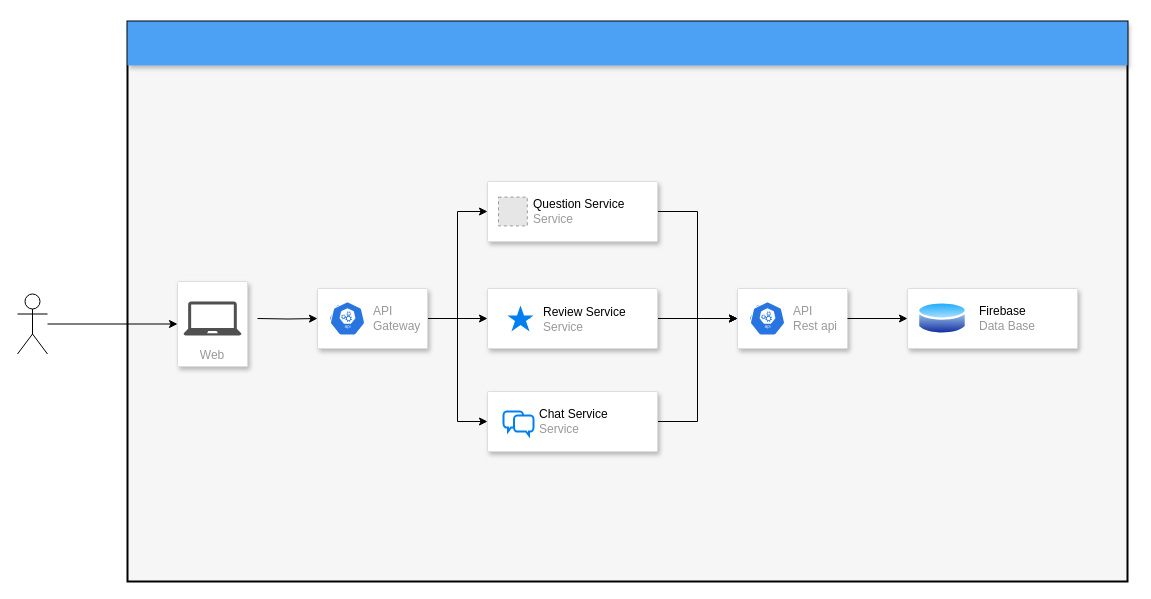
Image size: 1151x599. Some labels were removed from this diagram. Grey dashed boxes stand in for pictures. Here are the shapes that lost their labels. From the top down, the centre of each, then its label:
pixel 628 44: CRM Module
pixel 32 323: User
